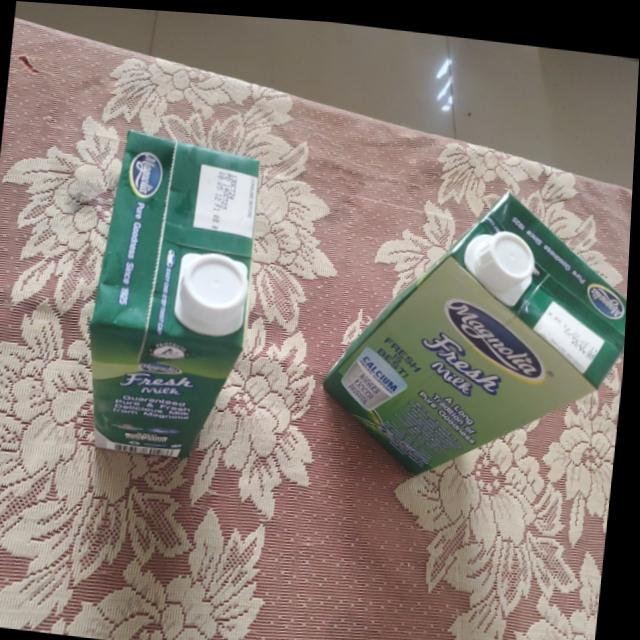milk: (320, 169, 634, 490), (81, 123, 267, 466)
